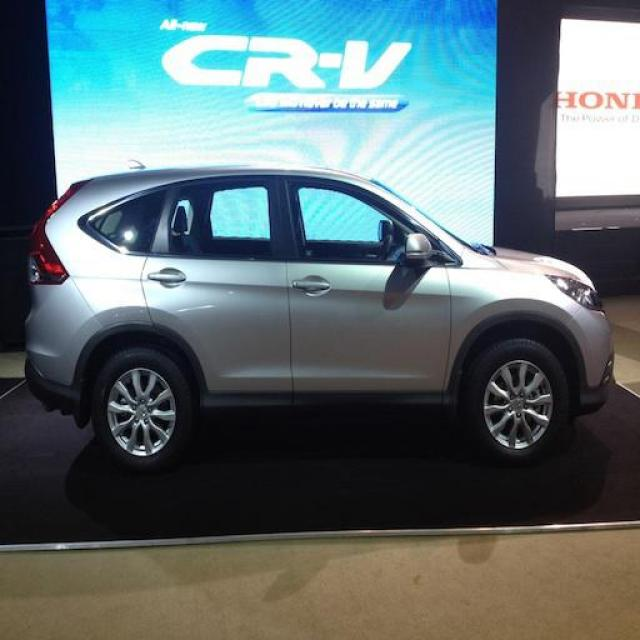back_right_door: (140, 174, 293, 405)
back_right_light: (28, 178, 93, 285)
front_right_door: (277, 173, 452, 404)
front_right_light: (544, 276, 607, 311)
hood: (485, 243, 596, 289)
right_mirror: (404, 233, 434, 260)
wheel: (90, 335, 567, 471)
